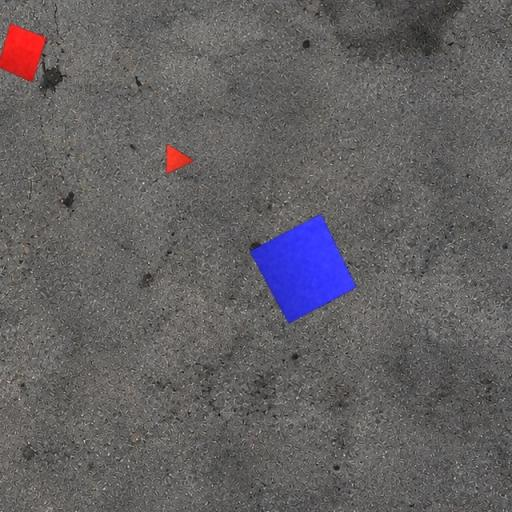BLUE_SQUARE: (248, 213, 358, 324)
RED_SQUARE: (0, 22, 47, 84)
